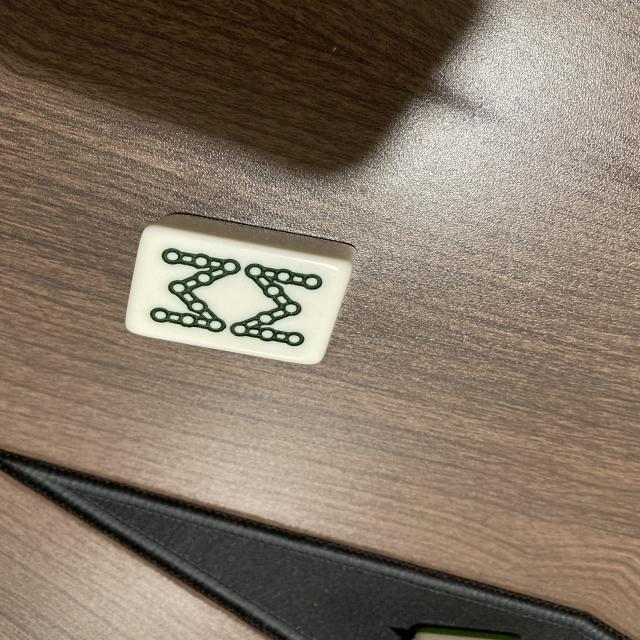s8: (130, 227, 339, 360)
